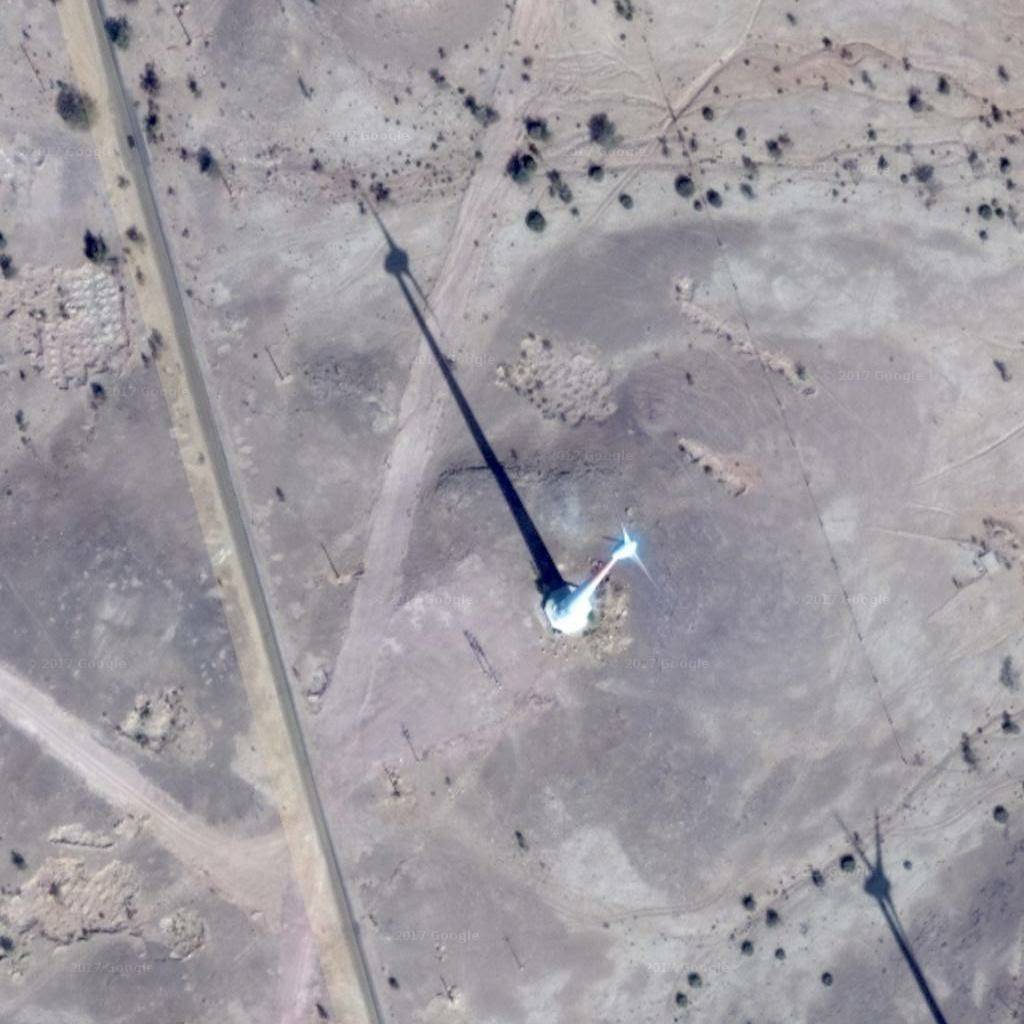Windmill: (348, 192, 580, 598)
